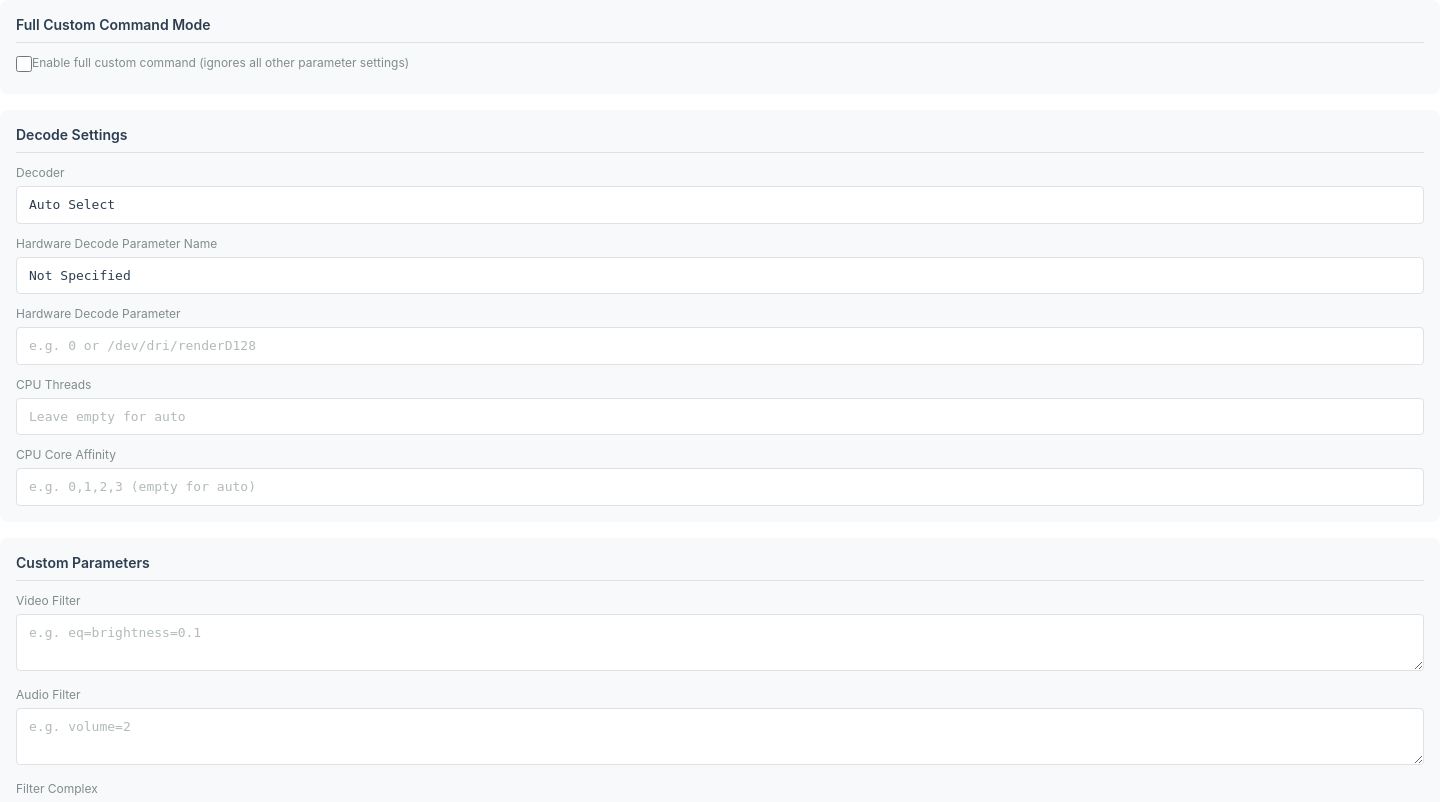
Test: AdvancedSettings › validates CPU threads as a positive integer
This screenshot has width=1440, height=802.
Type "0" into the field with class "cpu-threads-input" at (720, 416), box top-left (16, 398), bottom-right (1424, 435)
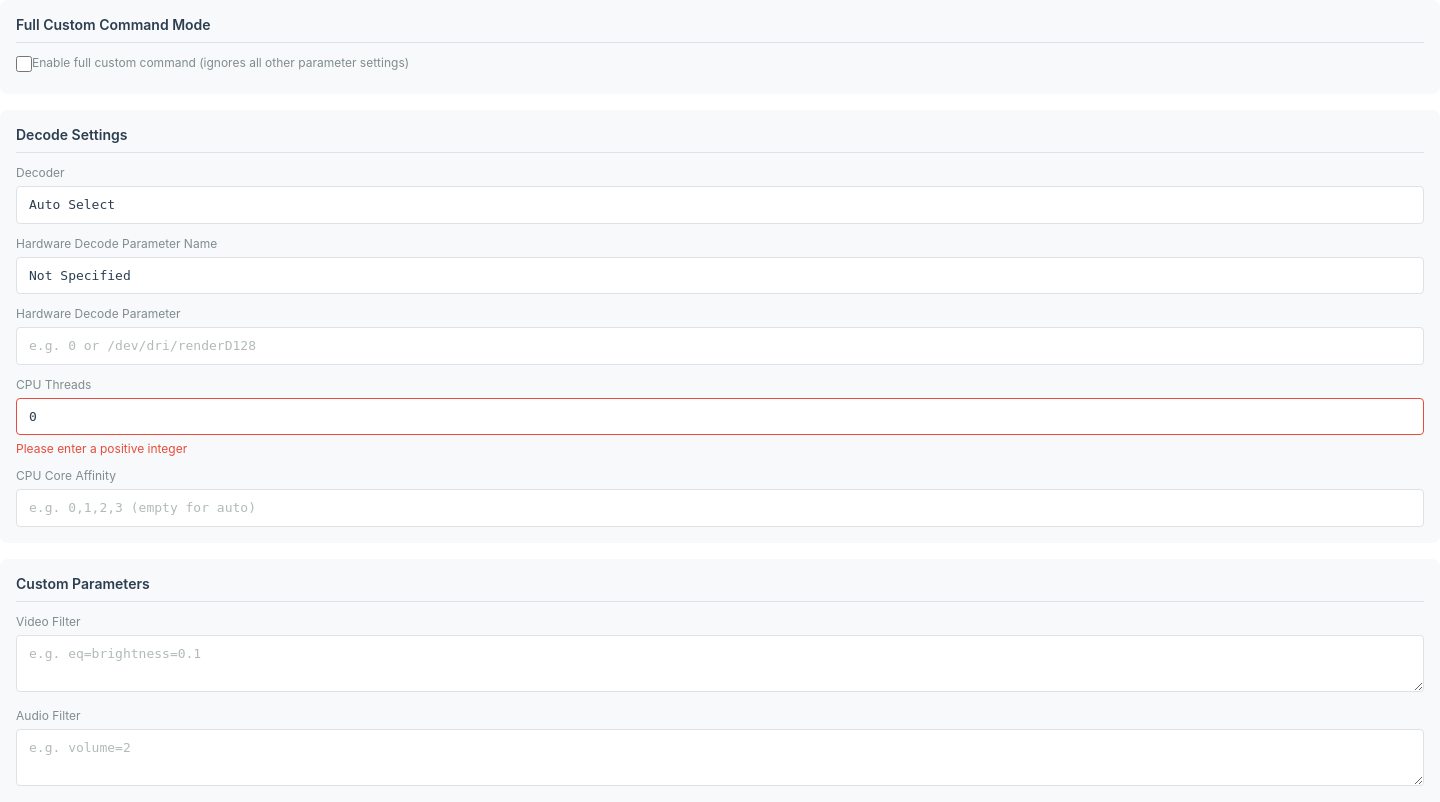
Now the text "Please enter a positive integer" is shown, box top-left (16, 441), bottom-right (187, 456)
Replace the text in the field with class "cpu-threads-input" with "4" at (720, 416), box top-left (16, 398), bottom-right (1424, 435)
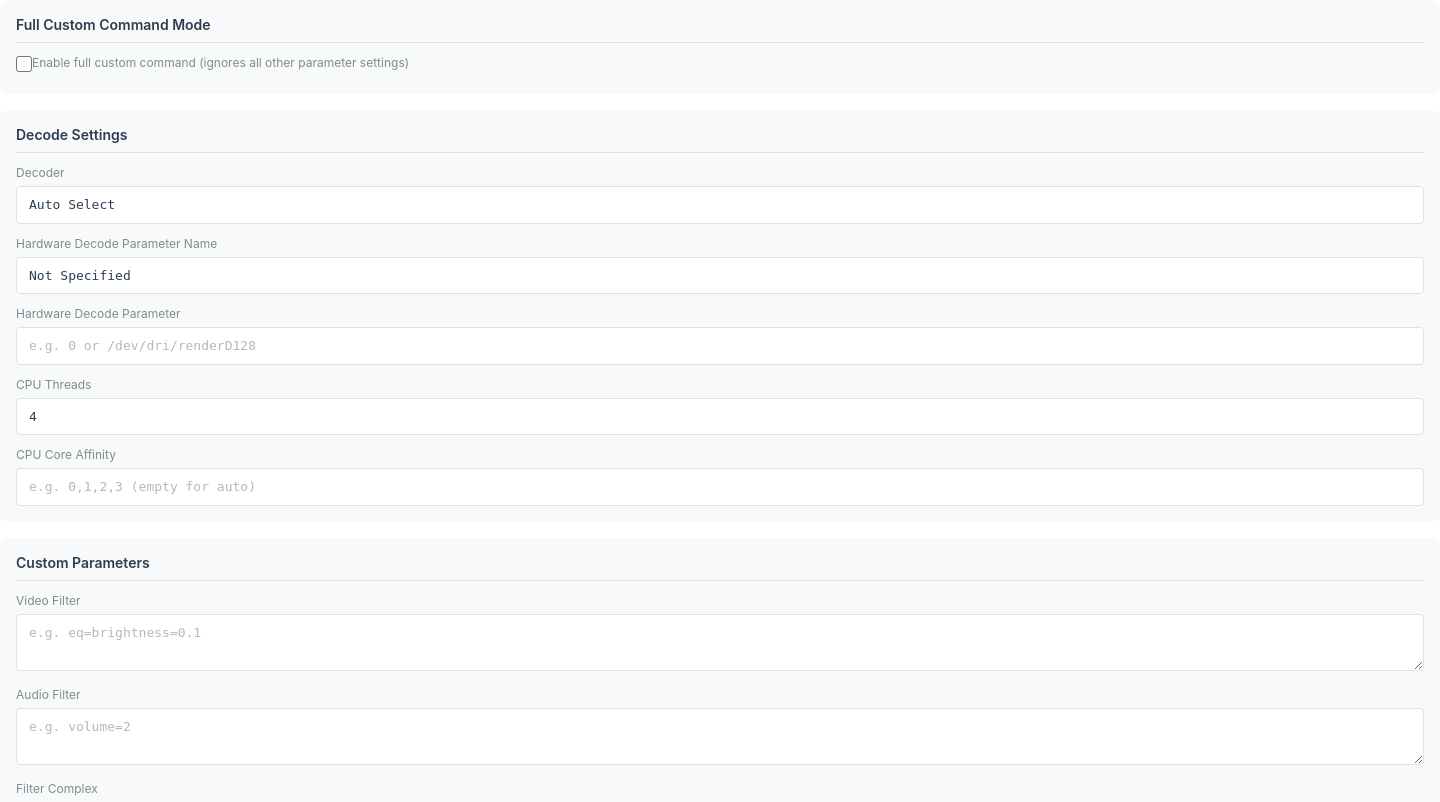
Now the text "Please enter a positive integer" is gone
